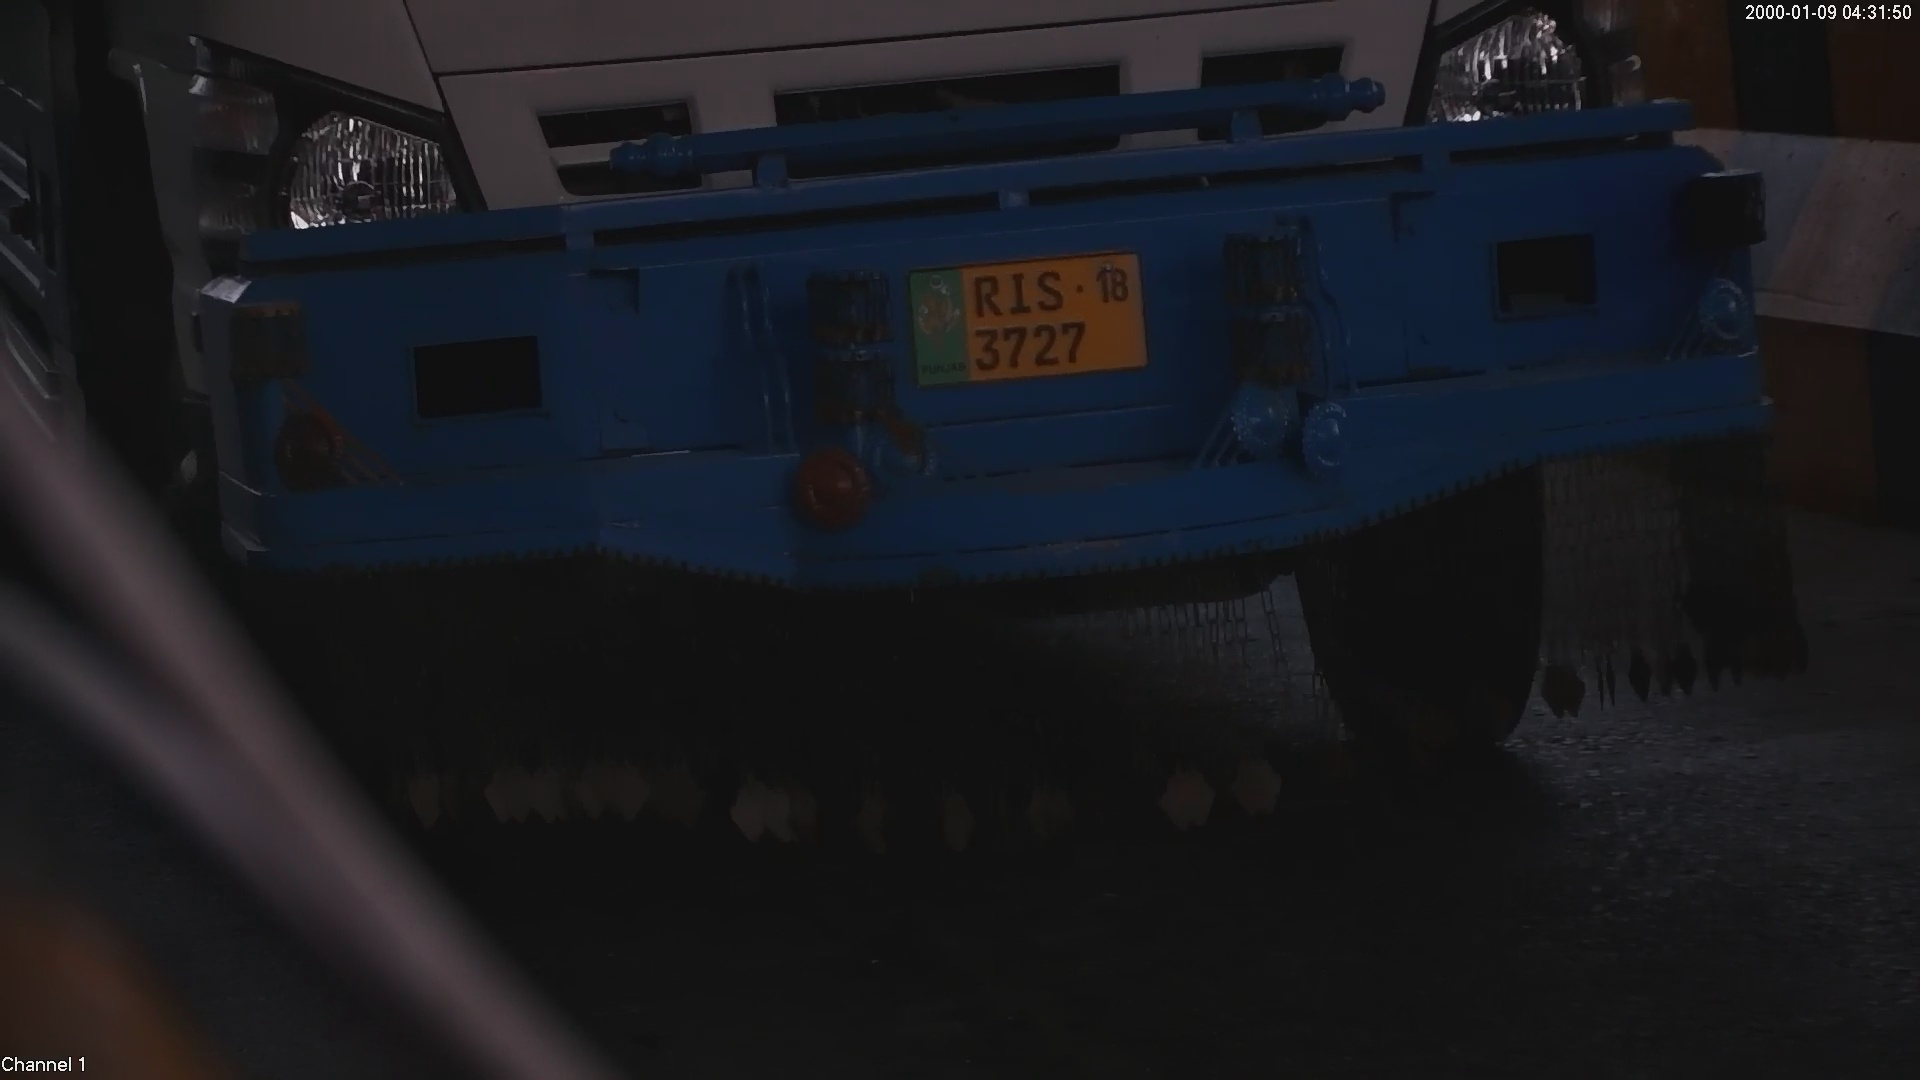Number_Plate: (897, 233, 1158, 390)
